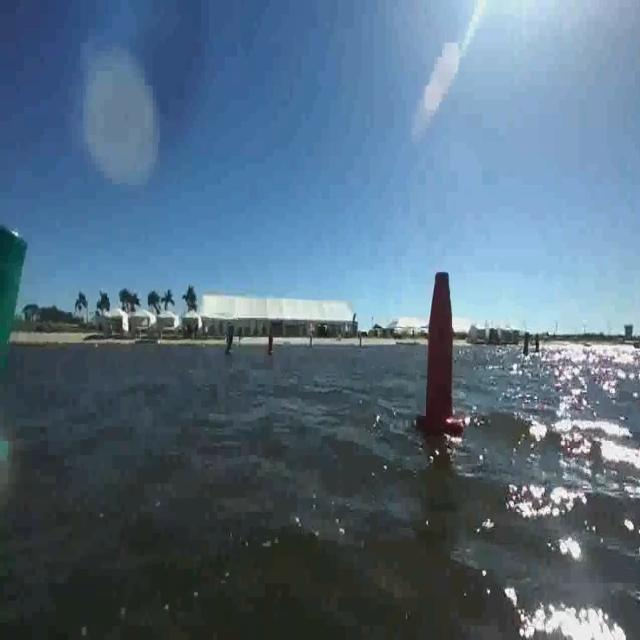green-buoy: (0, 440, 11, 460)
green-column-buoy: (224, 325, 236, 356)
red-column-buoy: (418, 265, 462, 439), (268, 333, 277, 357)
